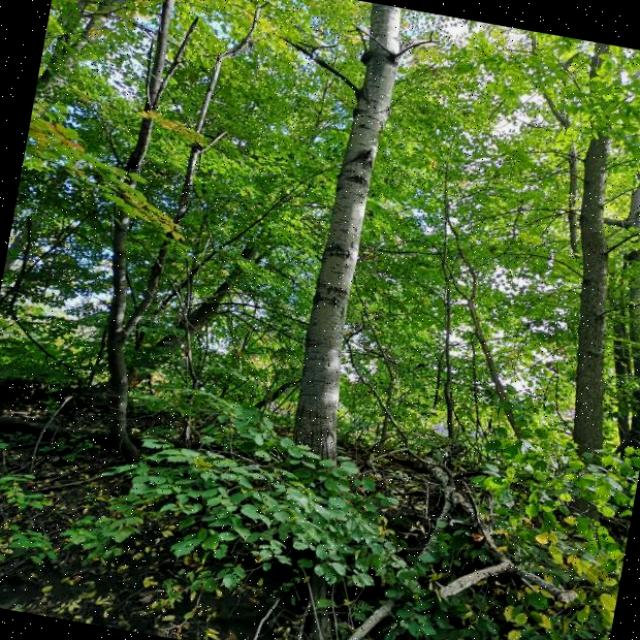fallen_object: (261, 398, 640, 640)
